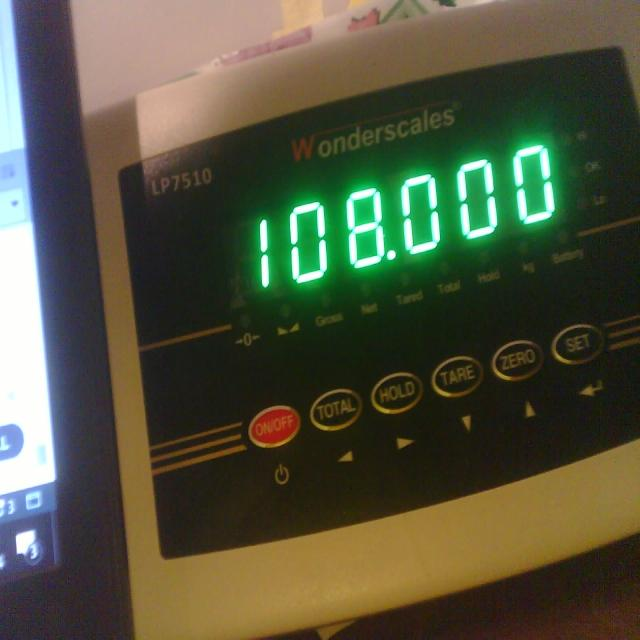.: (384, 244, 399, 264)
0: (288, 148, 329, 334), (400, 155, 441, 271), (513, 143, 556, 225), (456, 157, 498, 239)
1: (256, 150, 272, 355)
8: (345, 153, 387, 303)
